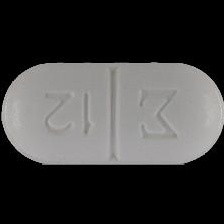64980-186: (0, 0, 224, 224)
